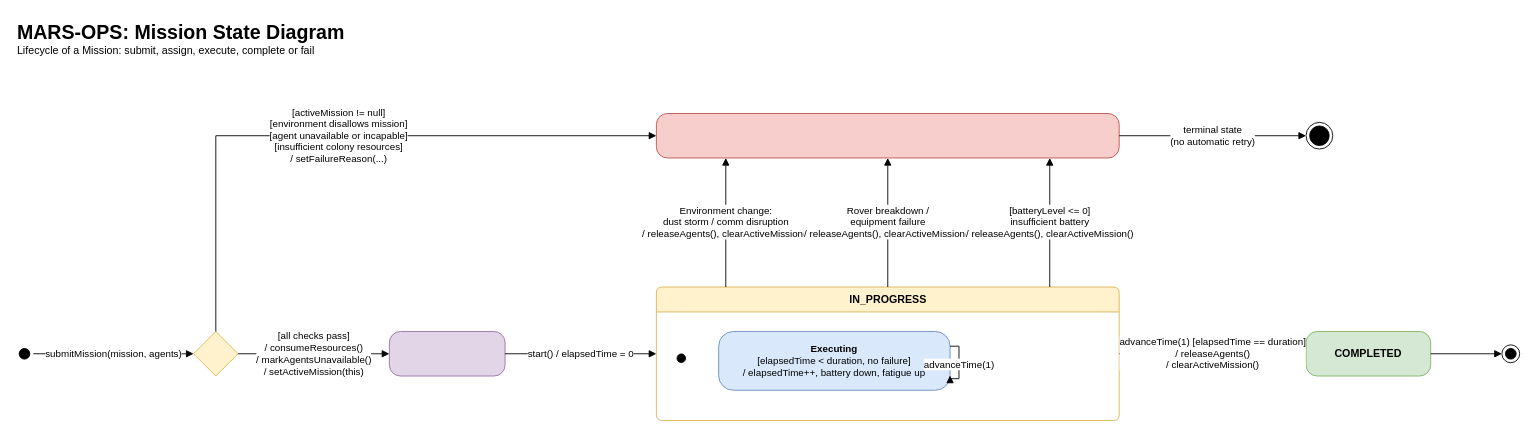
Image size: 1535x436. Some labels were removed from this diagram. Each missing label, with the centre of its shape:
"ASSIGNED" goes at [446,353].
"FAILED" goes at [887,135].
